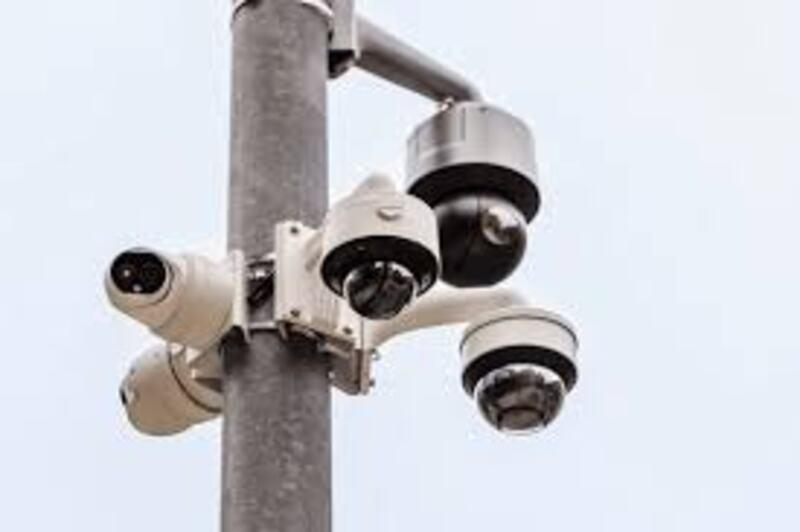dome: (319, 197, 441, 328), (458, 317, 583, 439)
ptz: (406, 102, 538, 299)
turret: (101, 239, 232, 353)
